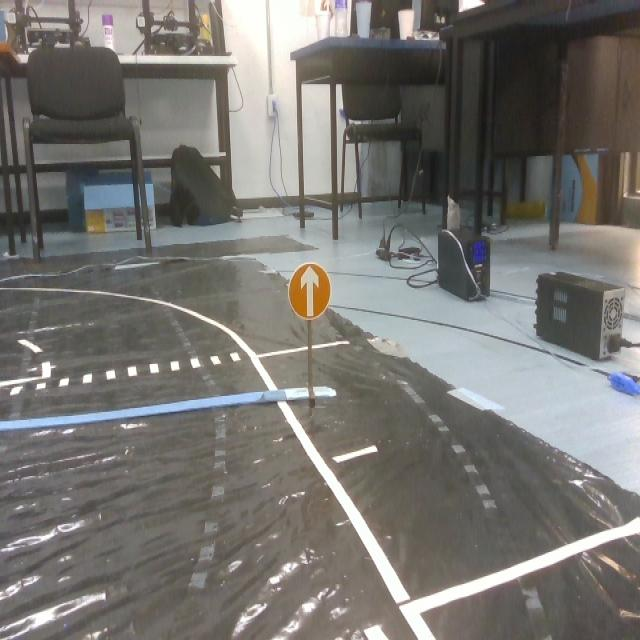right_turn: (288, 261, 332, 319)
